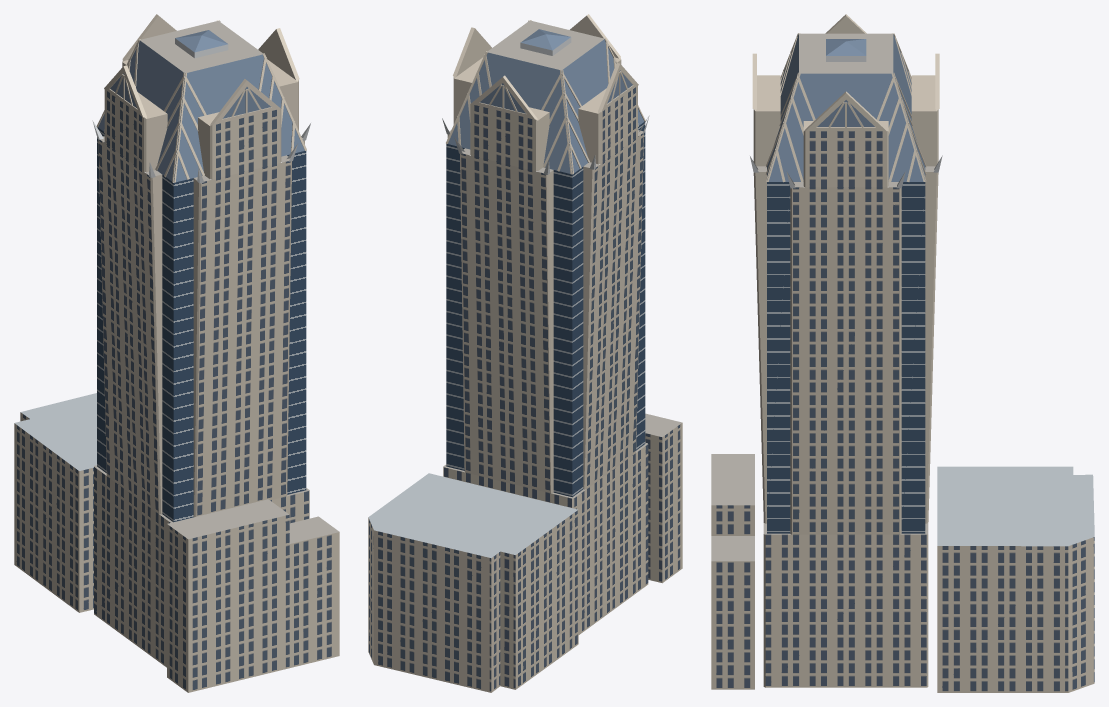
The model's file is truist-center-charlotte.glb.
3 views of the same model, side by side, from view 1: azimuth 30°, elevation 25°; view 2: azimuth 150°, elevation 25°; view 3: azimuth 270°, elevation 25° (orthographic). The views are drawn at different scales.
Parts seen in each view (by area): view 1: Truist Center; view 2: Truist Center; view 3: Truist Center.
Boxes of the visible parts, <box> form: Truist Center: <box>14,14,339,692</box>; Truist Center: <box>368,14,682,692</box>; Truist Center: <box>711,14,1094,692</box>.
Size of the model in its own units: 57.2 by 200 by 114.
Materials: 7 (2 with a texture image).
